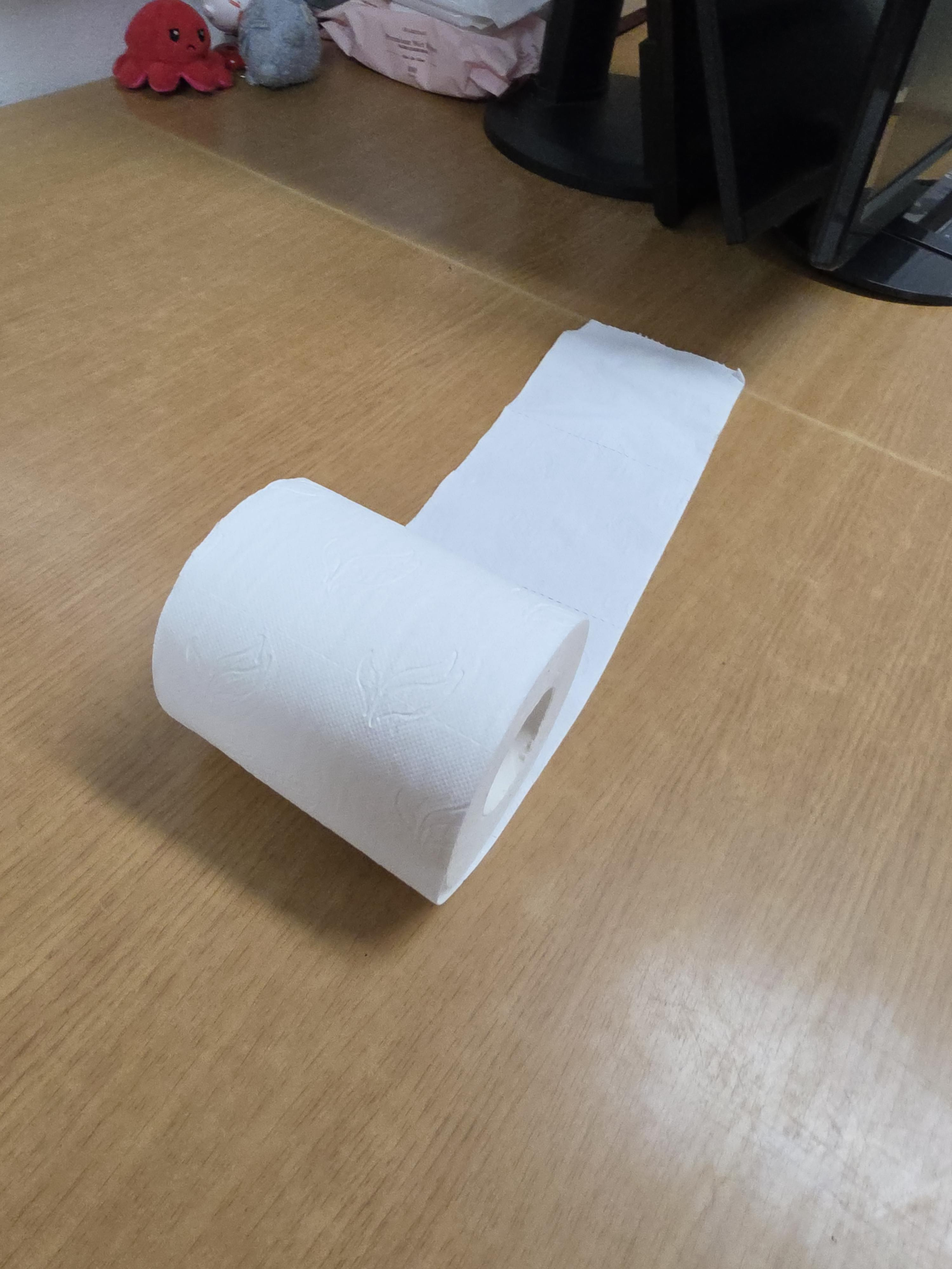tissue: (151, 320, 746, 907)
